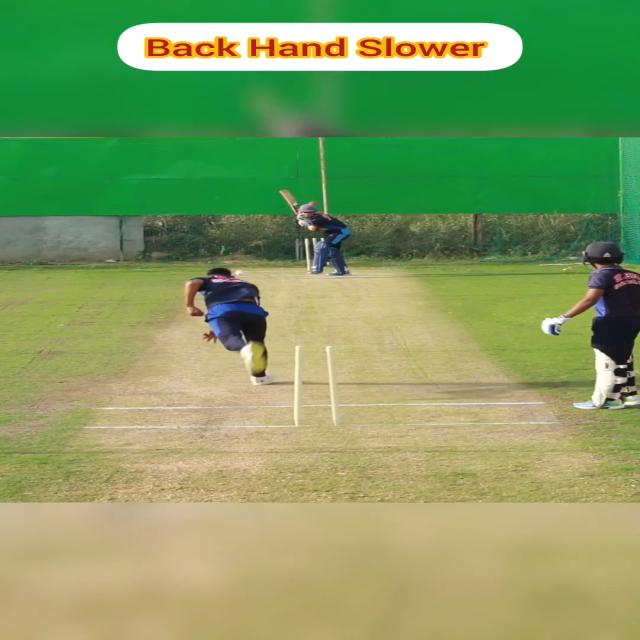ball: (234, 269, 247, 277)
stump: (291, 344, 342, 426), (304, 238, 328, 272)
